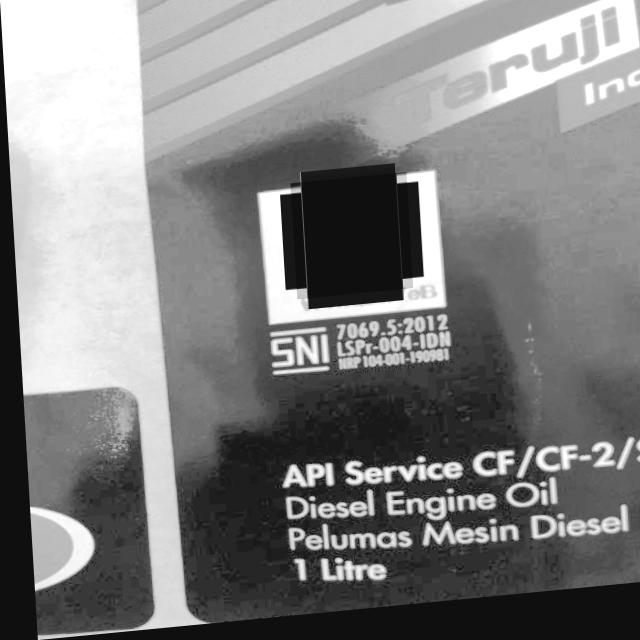qr_code: (288, 180, 409, 305)
